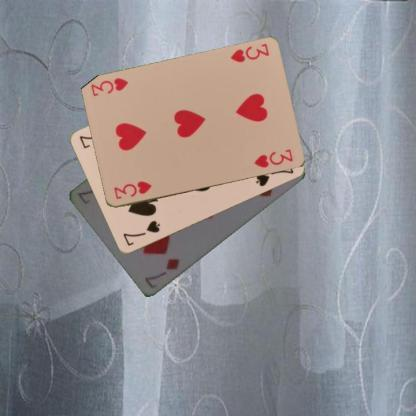3h: (228, 41, 270, 64), (110, 178, 152, 200)
7d: (142, 256, 180, 291)
7s: (120, 218, 161, 248)
